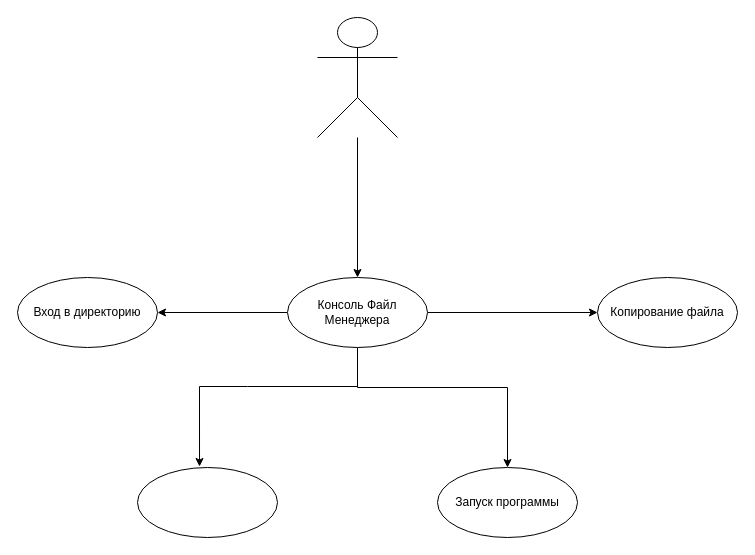
The diagram is 755 pixels wide and 555 high, and some of its shapes have lost their labels. Here are the shapes that lost their labels. From the top down, the box of each, then its label:
(316, 16, 398, 138): User
(136, 466, 278, 538): Просмотр Директории
